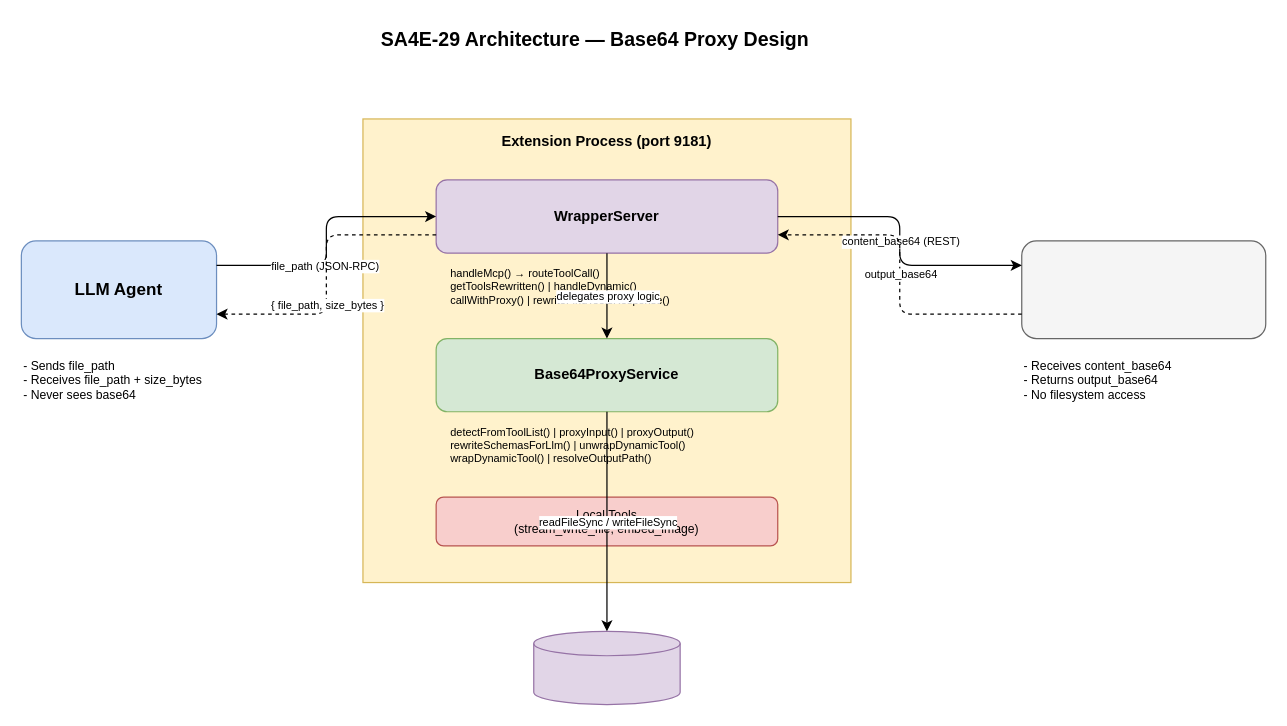
This 1287x726 diagram has some shape labels left out. The centre of each missing label's shape, as x and y in pixels:
"Backend (port 48721)" goes at (x=1143, y=289).
"Local Filesystem" goes at (x=606, y=667).
